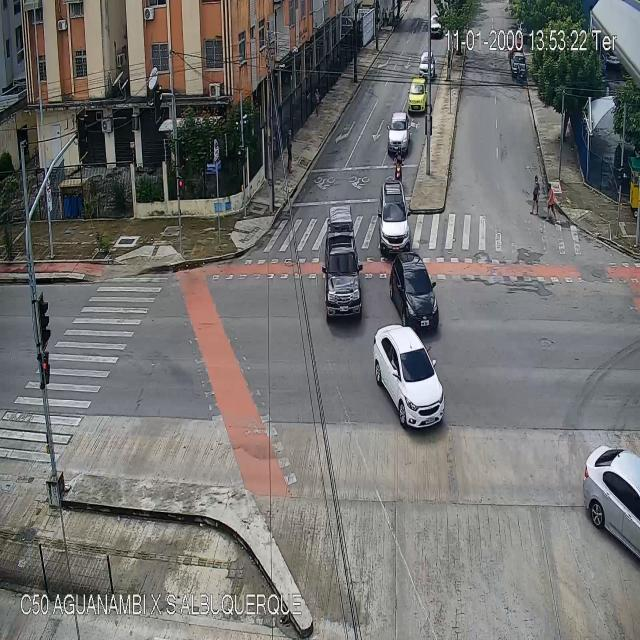Car: (373, 322, 445, 434), (584, 447, 640, 563), (390, 258, 439, 334), (322, 232, 362, 320), (378, 180, 412, 254), (386, 112, 412, 160), (409, 75, 426, 115), (420, 48, 436, 79), (511, 52, 528, 78), (429, 9, 443, 40)
Motorcycle: (395, 148, 404, 179), (516, 60, 524, 86)
